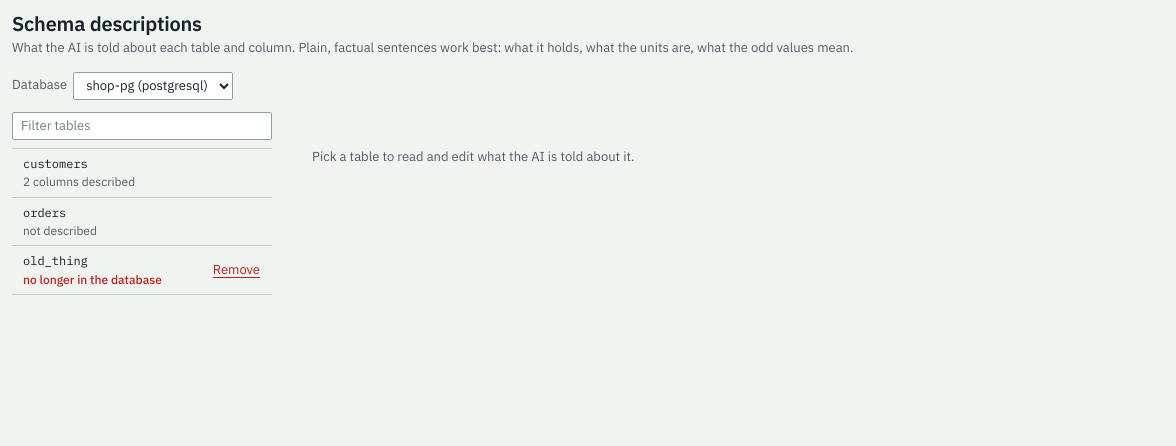
Test: schema editor › Escape gives up the edit without saving
The image size is (1176, 446).
Click the button "customers 2 columns described". click: (55, 163)
box: [12,149,272,197]
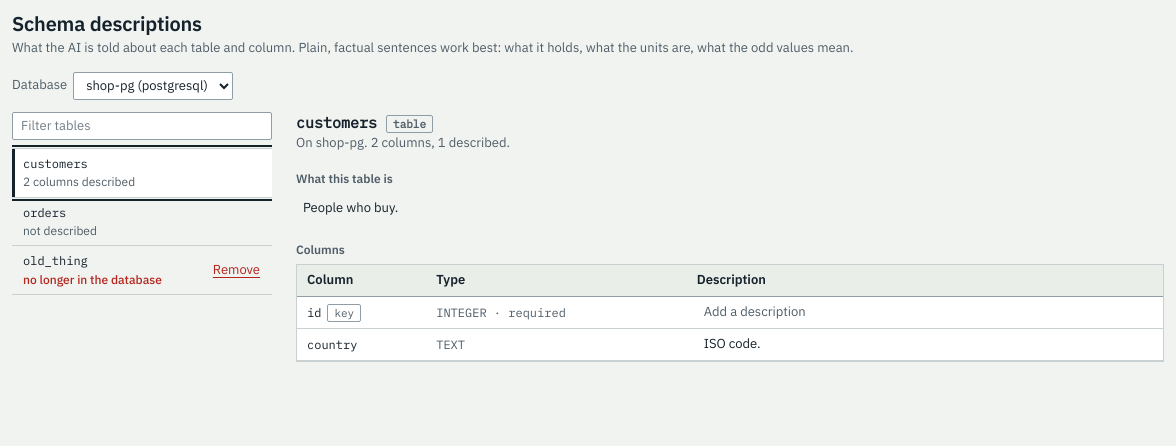
Click the button with aria-label "Description of customers.country". click: (732, 344)
box: [697,330,1153,359]
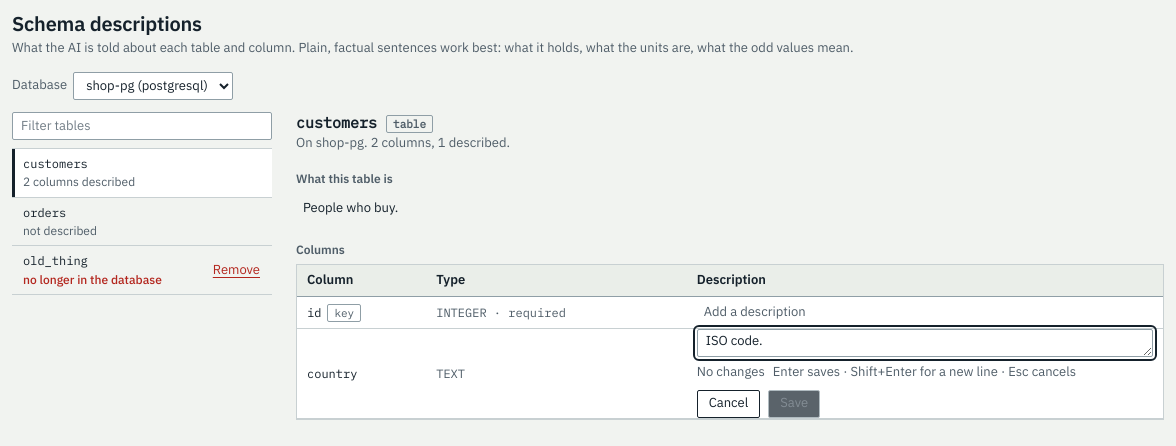
Type " extra" into the text box. click: (925, 343)
box: [697,329,1153,357]
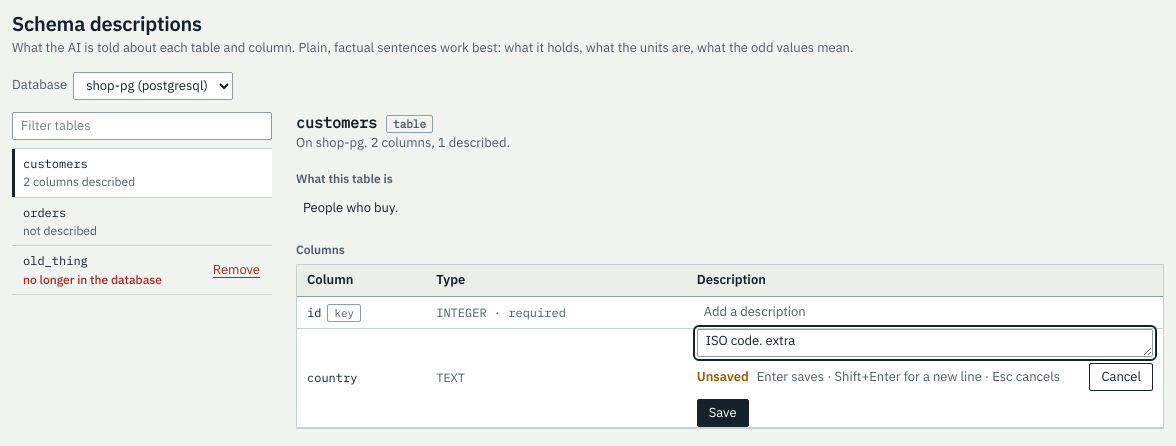
Press Escape
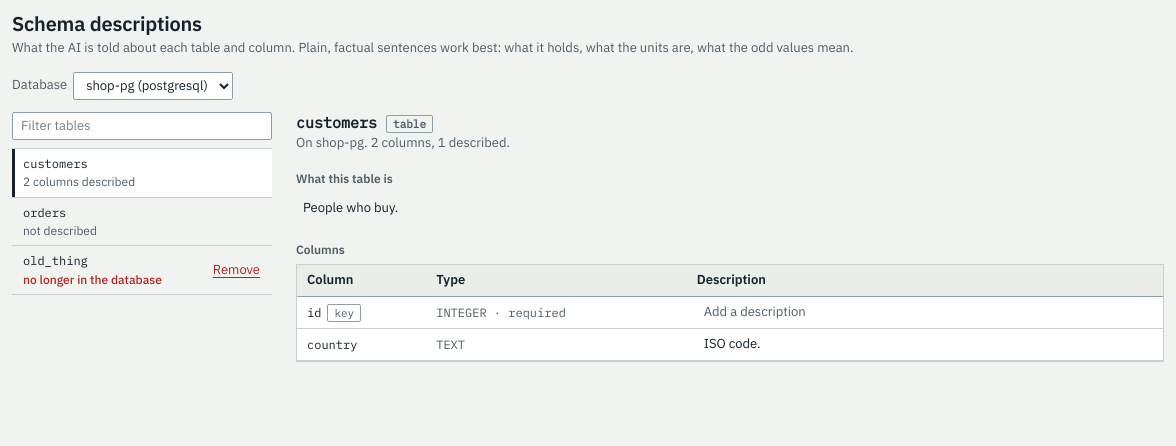
Now the text "ISO code." is shown, box [704,335,760,354]
